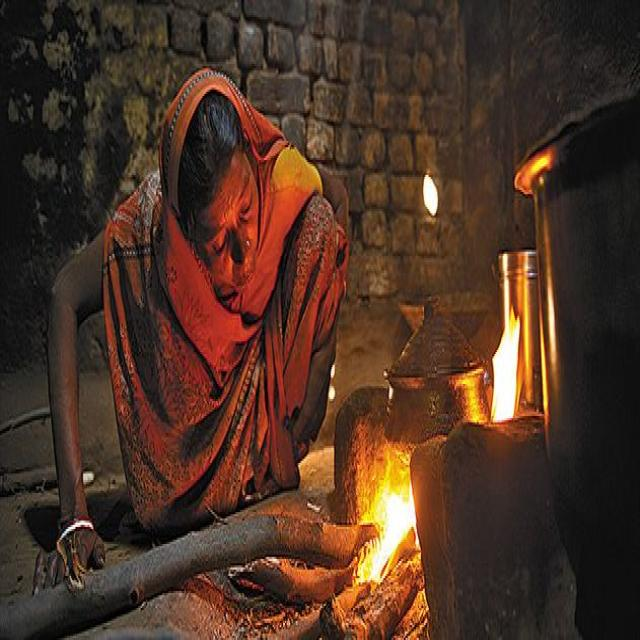fire: (374, 489, 421, 584), (491, 306, 520, 422)
